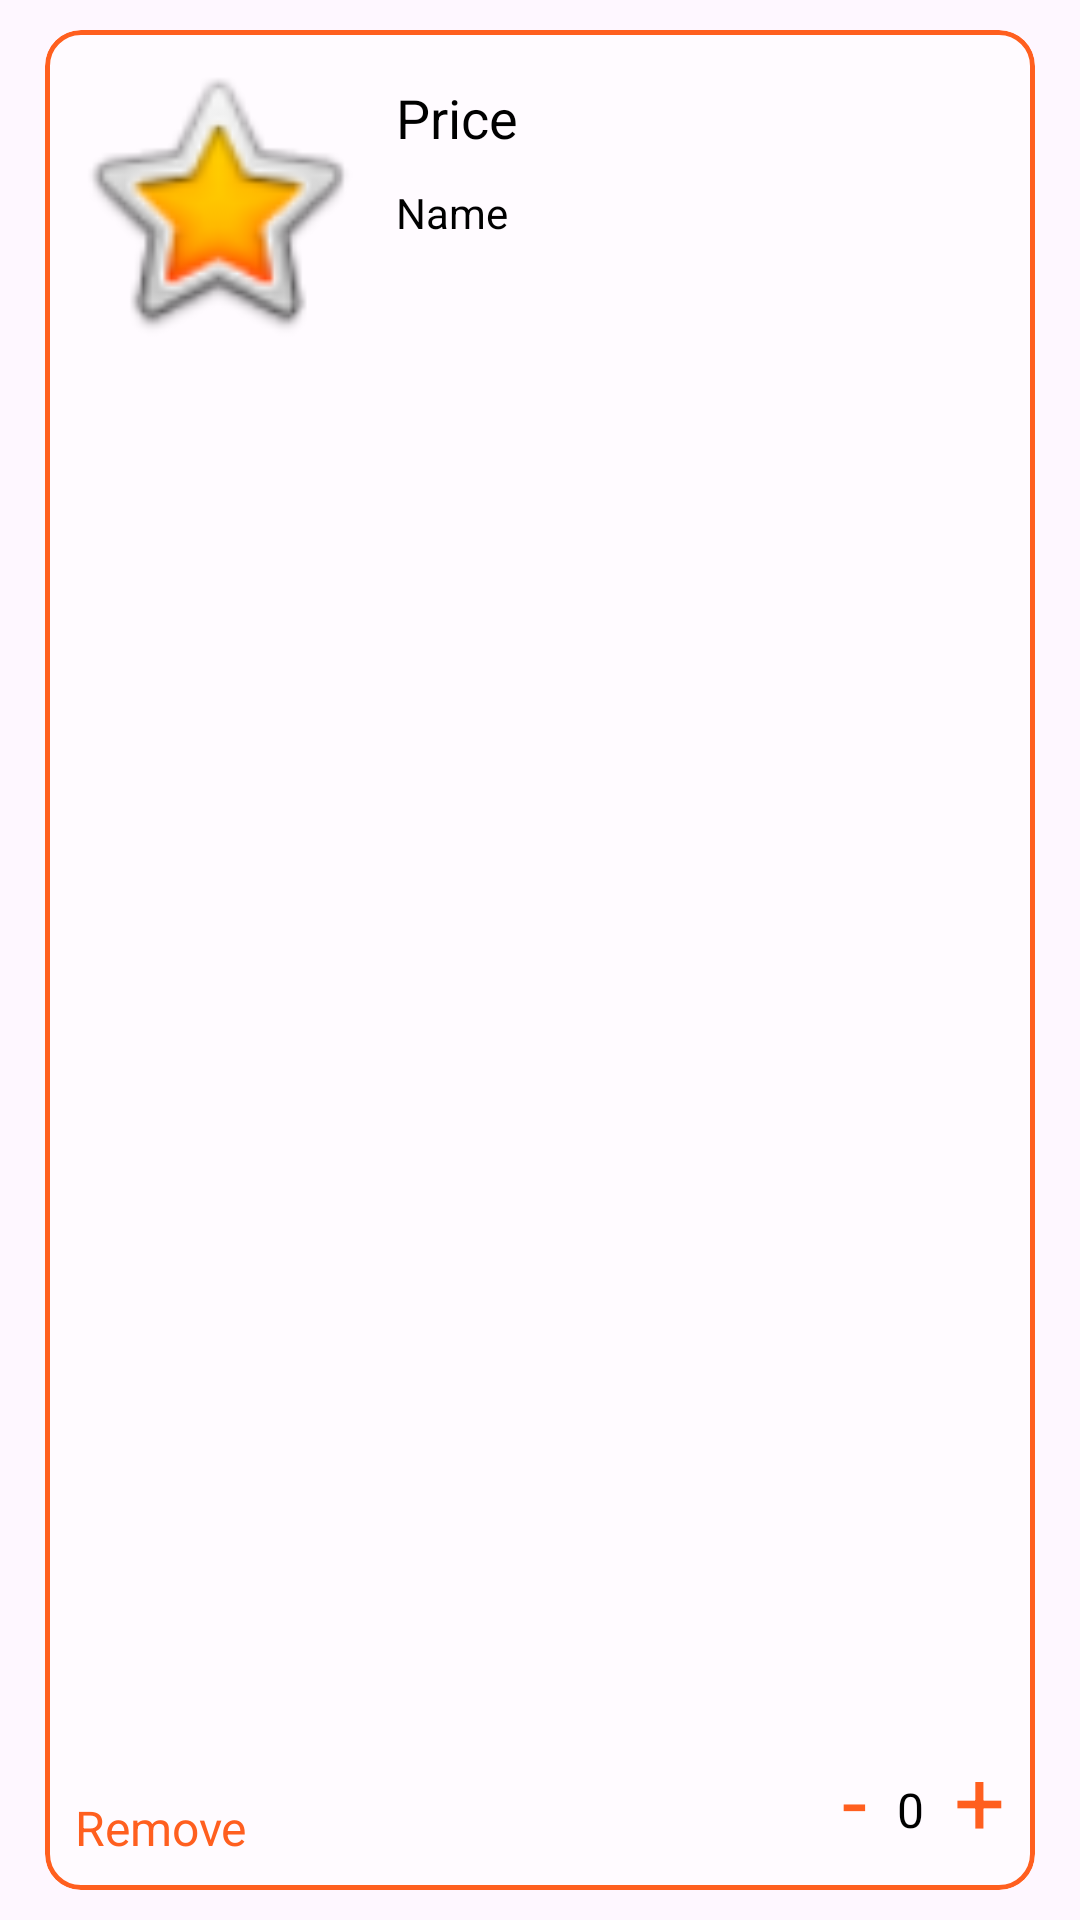

Screen size 1080x1920. Icon name, then its box in pixels as (x1, y1, x2, y2):
star on: (93, 81, 344, 326)
